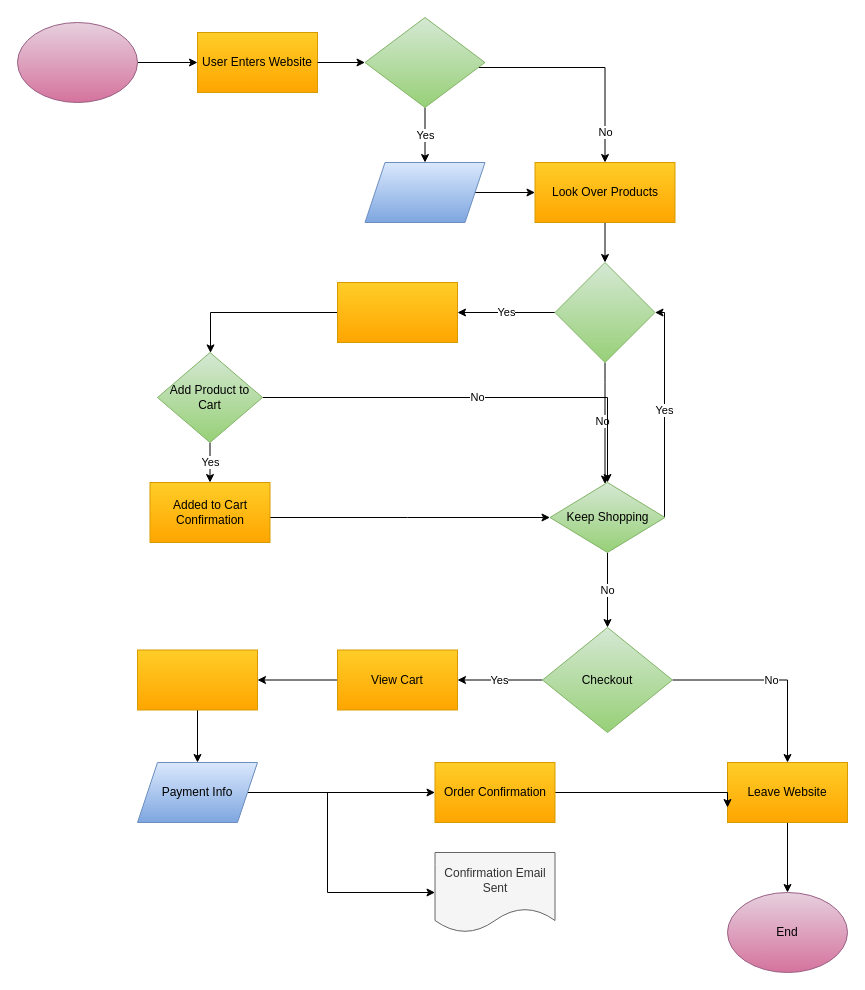
Image size: 865x990. Some labels were removed from this diagram. The shapes that lost their labels are listed below. From the top down, each one's box as (x1, y1, x2, y2) in pixels, then its label:
(16, 22, 138, 102): Start
(364, 16, 485, 108): Search products
(364, 162, 485, 222): Item Information
(336, 282, 458, 342): View Product Webpage
(554, 262, 655, 362): View Specific Item
(136, 649, 258, 710): View Payment
